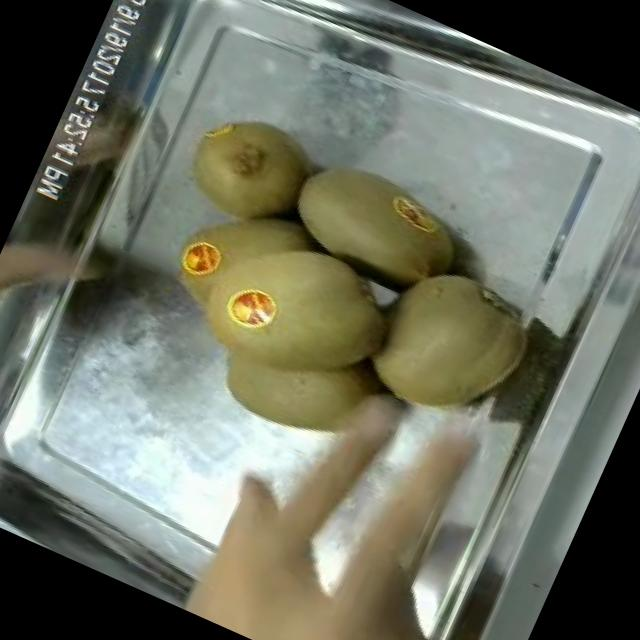Fruit: (158, 188, 424, 468), (342, 240, 552, 450), (268, 135, 484, 312), (164, 90, 328, 254)
